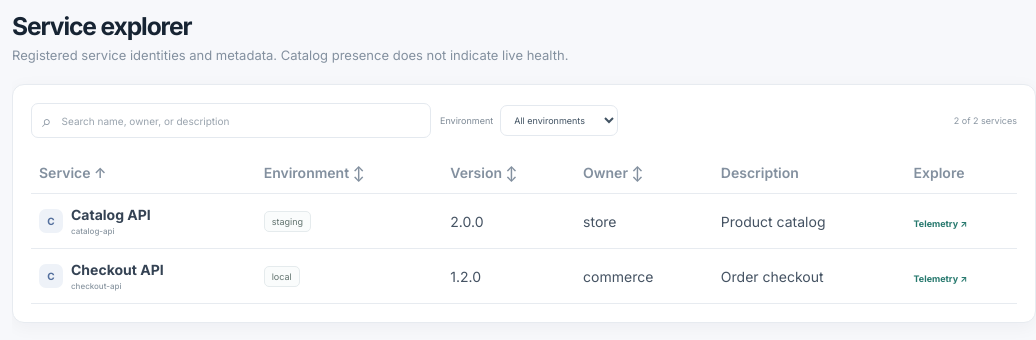
service explorer filters by environment
Expected: the text "Checkout API" is shown, [71, 261, 164, 278]
Select "staging" in the dropdown labelled "Environment" at coordinates (559, 120), box [500, 105, 618, 136]
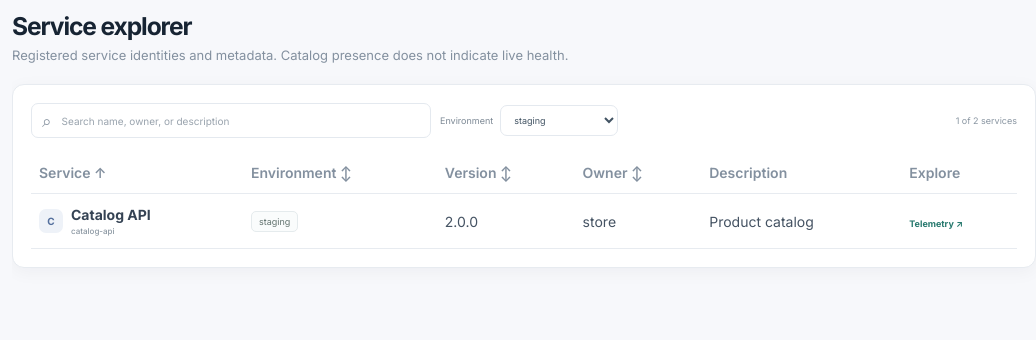
Expected: the text "Catalog API" is shown, [71, 206, 151, 223]
Result: the text "Checkout API" is gone
